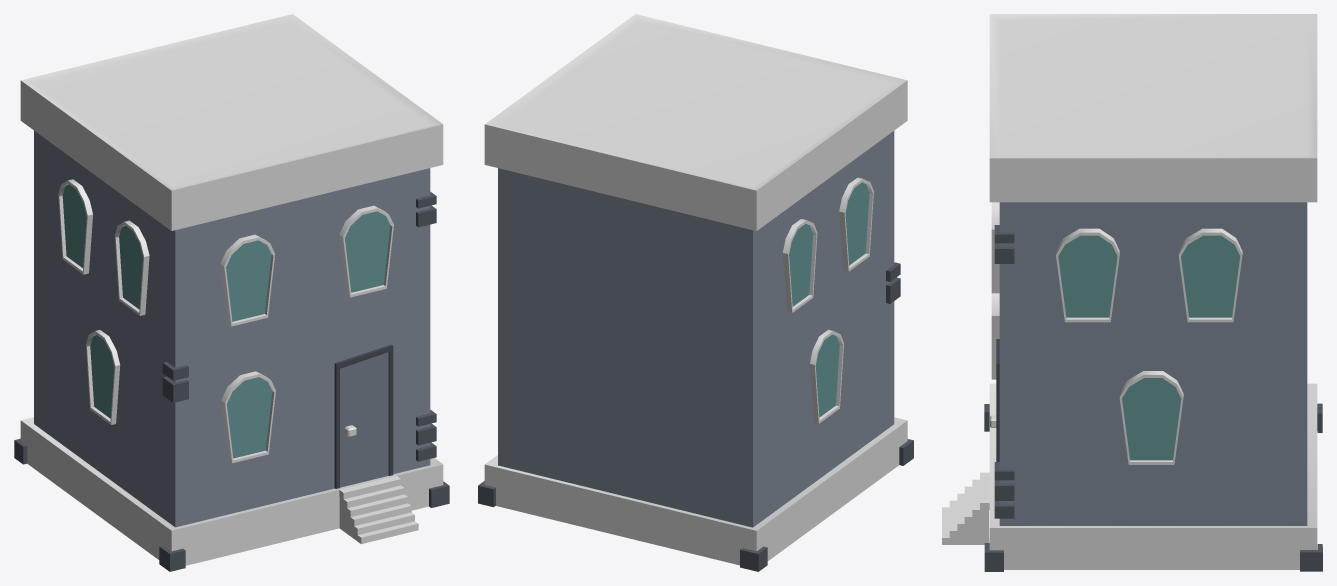
File: Apart Blue.fbx
3 views of the same model, side by side, from view 1: azimuth 30°, elevation 25°; view 2: azimuth 150°, elevation 25°; view 3: azimuth 270°, elevation 25° (orthographic). The views are drawn at different scales.
Visible parts, largest first — view 1: pCube1, pCube7, pCube3, pCube4, pCube2, pCube71, pCube70, pCube72, pCube8, pCube29, pCube28, pCube27 (+5 smaller); view 2: pCube1, pCube71, pCube70, pCube72, pCube19; view 3: pCube1, pCube9, pCube10, pCube11, pCube4, pCube2, pCube29, pCube28, pCube20, pCube8, pCube17.
Part boxes in pixels (bbox=[...]): pCube1: bbox=[20, 14, 443, 565]; pCube7: bbox=[340, 352, 388, 487]; pCube3: bbox=[220, 234, 274, 326]; pCube4: bbox=[221, 371, 275, 463]; pCube2: bbox=[339, 205, 393, 297]; pCube71: bbox=[58, 179, 92, 274]; pCube70: bbox=[114, 220, 149, 315]; pCube72: bbox=[86, 330, 120, 424]; pCube8: bbox=[334, 344, 393, 488]; pCube29: bbox=[339, 521, 418, 544]; pCube28: bbox=[339, 512, 414, 534]; pCube27: bbox=[339, 503, 411, 526]; pCube1: bbox=[484, 14, 907, 565]; pCube71: bbox=[782, 219, 817, 312]; pCube70: bbox=[839, 177, 873, 271]; pCube72: bbox=[810, 329, 843, 423]; pCube19: bbox=[740, 546, 767, 571]; pCube1: bbox=[989, 14, 1317, 569]; pCube9: bbox=[1056, 228, 1119, 322]; pCube10: bbox=[1178, 228, 1242, 322]; pCube11: bbox=[1119, 371, 1183, 464]; pCube4: bbox=[991, 293, 999, 379]; pCube2: bbox=[991, 202, 999, 293]; pCube29: bbox=[942, 507, 989, 544]; pCube28: bbox=[949, 500, 988, 537]; pCube20: bbox=[1300, 544, 1322, 571]; pCube8: bbox=[996, 339, 999, 461]; pCube17: bbox=[984, 543, 1003, 571].
Bounding box in the file's own units: 6.86 × 8.86 × 7.43.
